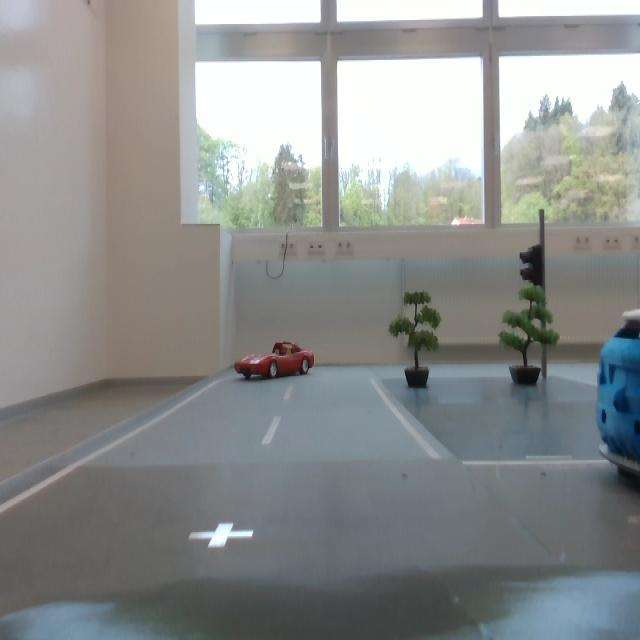car: (591, 300, 640, 489), (237, 334, 317, 393)
potted plant: (501, 285, 562, 368), (385, 291, 445, 373)
traffic light: (518, 235, 552, 302)
